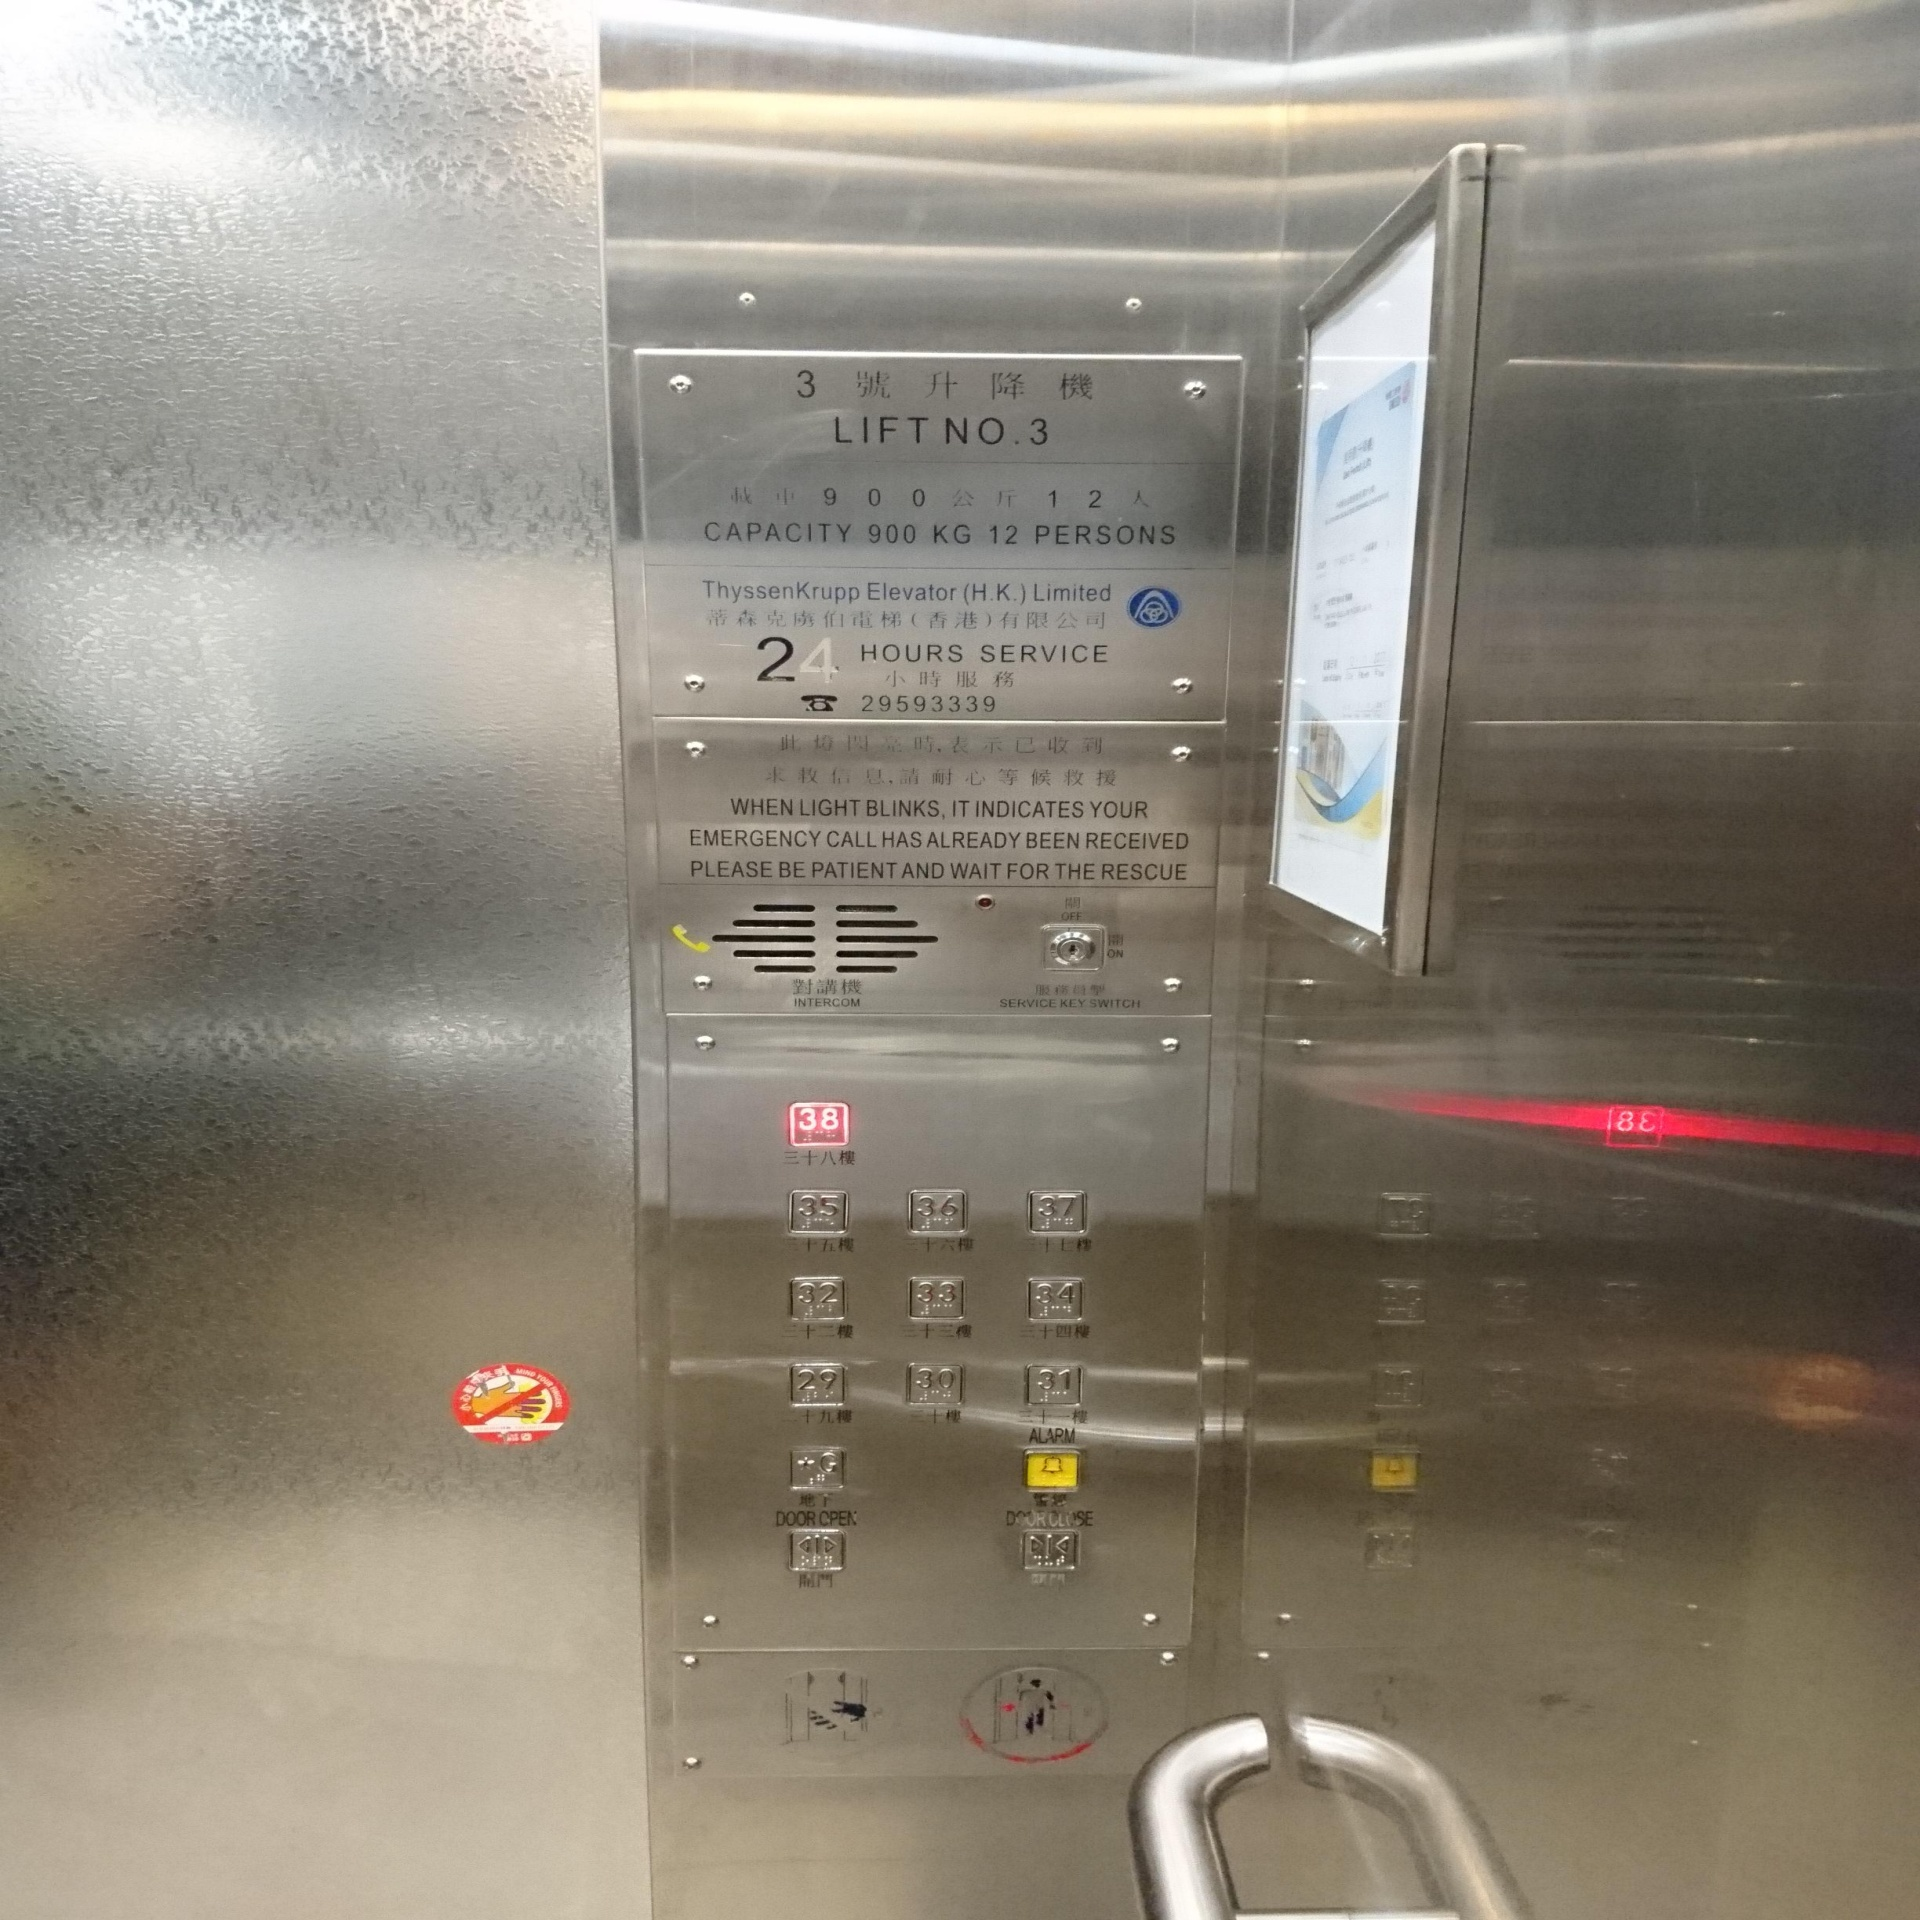29: (788, 1361, 847, 1408)
30: (907, 1361, 965, 1407)
31: (1023, 1361, 1083, 1408)
32: (788, 1275, 849, 1322)
33: (907, 1275, 965, 1322)
34: (1025, 1276, 1085, 1322)
35: (788, 1187, 849, 1236)
36: (905, 1187, 969, 1238)
37: (1027, 1189, 1087, 1236)
38: (788, 1101, 849, 1148)
alarm: (1023, 1447, 1083, 1493)
close: (1022, 1528, 1078, 1572)
keyhole: (1041, 923, 1104, 971)
open: (788, 1528, 847, 1575)
sG: (789, 1445, 847, 1493)
